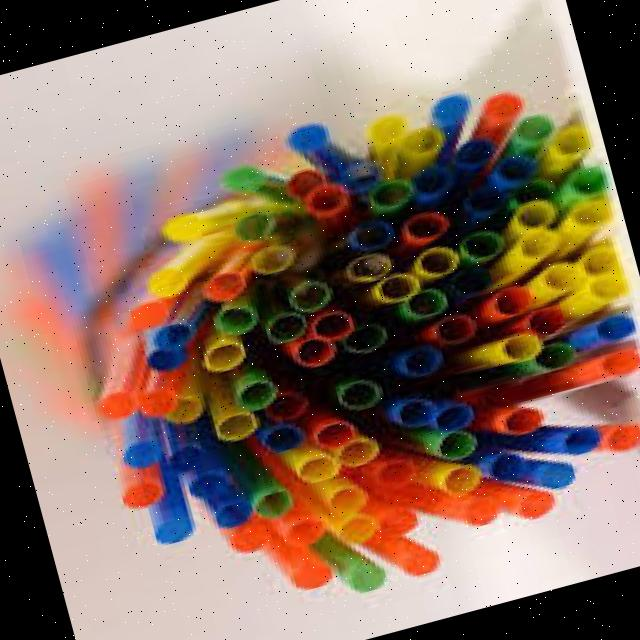plastic: (385, 533, 456, 591)
